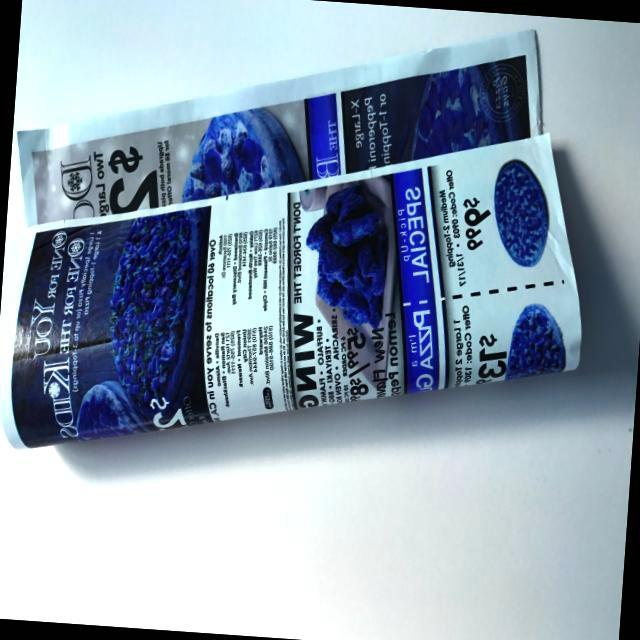paper: (0, 0, 634, 514)
